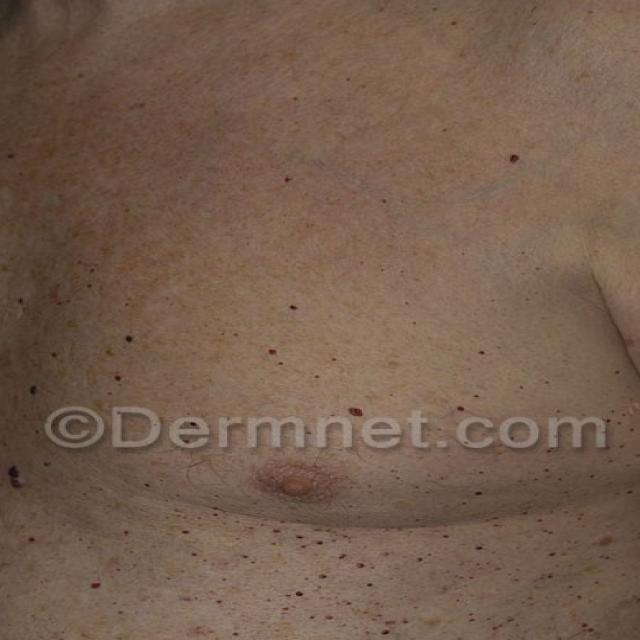Vascular Tumors: (78, 283, 415, 447), (435, 334, 620, 521), (217, 522, 640, 598), (0, 590, 545, 640), (0, 338, 59, 525), (495, 105, 556, 199)
